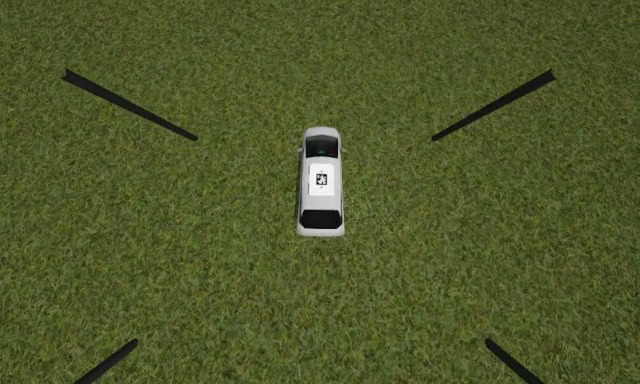Car: (298, 128, 346, 239)
Landing Pad: (307, 163, 336, 198)
